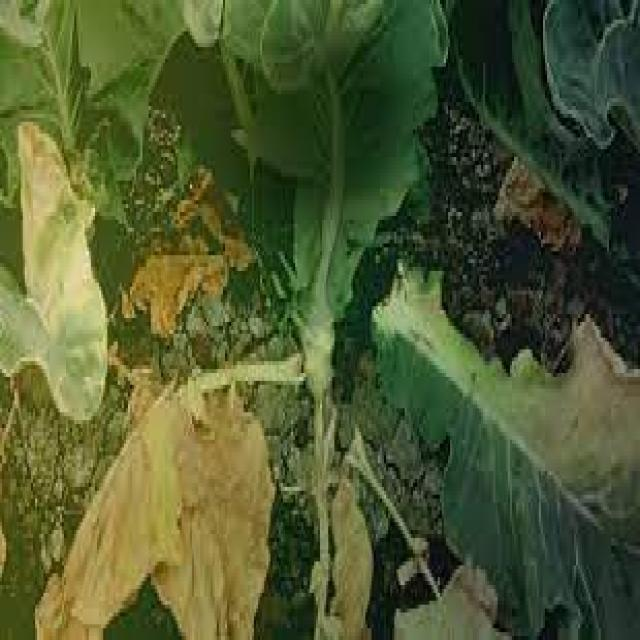Wilt_and_leaf_blight_on_lettuce: (49, 392, 272, 640), (1, 107, 120, 374)
